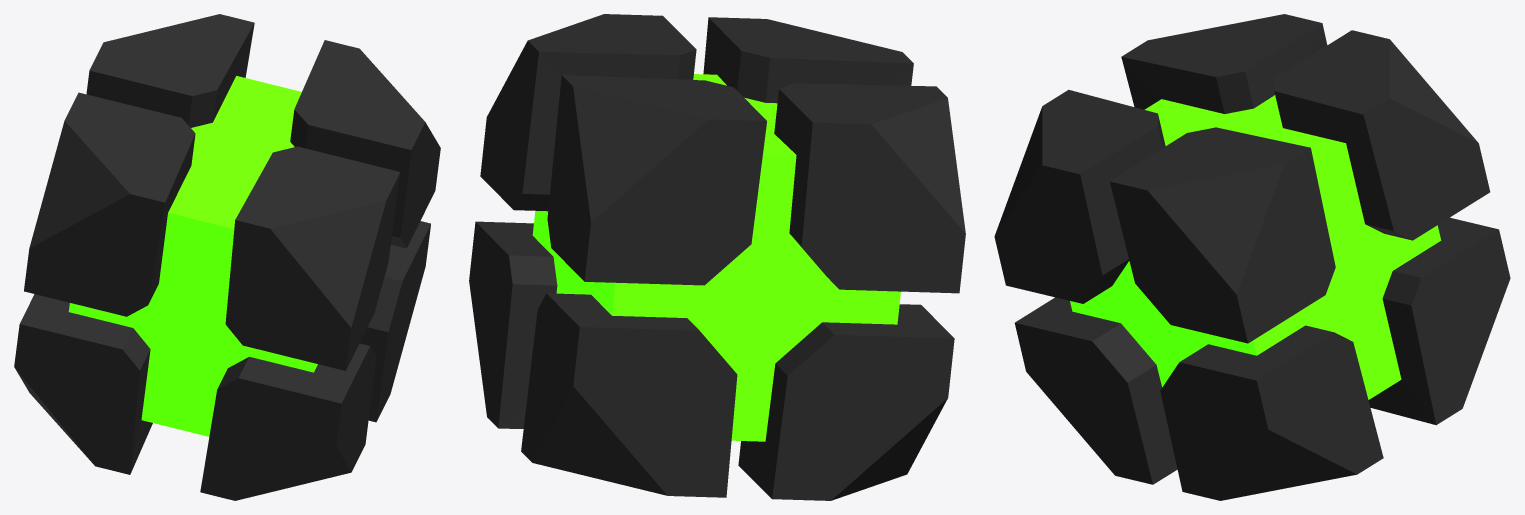
File: geology-pack.glb
The picture shows the model from 3 angles, left to right: view 1: azimuth 30°, elevation 25°; view 2: azimuth 150°, elevation 25°; view 3: azimuth 270°, elevation 25°; orthographic projection. The views are drawn at different scales.
Visible parts, largest first — view 1: Cube.021; view 2: Cube.021; view 3: Cube.021.
Part boxes in pixels (x1,y1,x2,y2): Cube.021: [14, 14, 440, 500]; Cube.021: [469, 14, 965, 500]; Cube.021: [994, 14, 1510, 500].
Size of the model in its own units: 4.8 by 4.03 by 5.
1 material, 1 textured.
